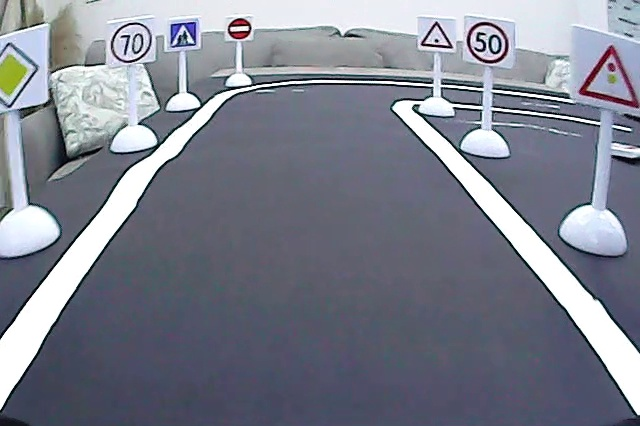do not enter: (227, 18, 252, 42)
green light: (419, 20, 455, 51)
red light: (575, 39, 640, 113)
school crossing: (167, 20, 199, 49)
speed limit 50: (464, 20, 512, 66)
speed limit 70: (110, 20, 153, 65)
